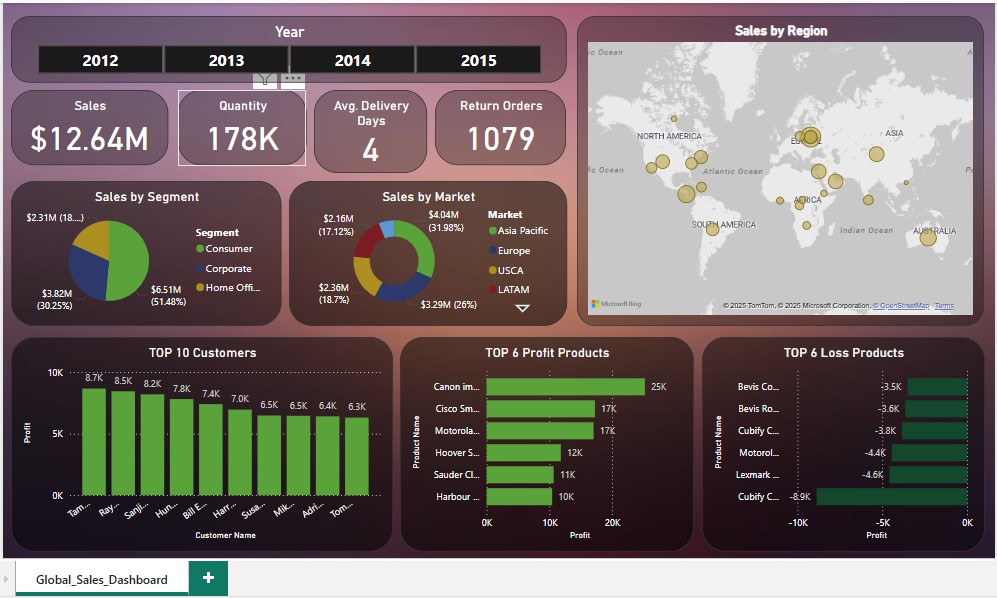

Layout of this report page (visuals, bound fields, positions):
{"tool":"powerbi","page":{"name":"P","canvas":[1280,720],"ordinal":0},"visuals":[{"type":"card","title":"Sales","fields":{"Values":["Sum(Orders.Sales)"]},"box":[9.9,112.7,202.8,97.2],"z":0},{"type":"card","title":"Quantity","fields":{"Values":["Sum(Orders.Quantity)"]},"box":[225.4,112.7,166.2,97.2],"z":1000},{"type":"card","title":"Avg. Delivery Days","fields":{"Values":["Sum(Orders.Delivery Days)"]},"box":[401.4,112.7,146.5,107],"z":2000},{"type":"slicer","title":"Year","fields":{"Values":["Orders.Year"]},"box":[9.9,16.9,716.9,85.9],"z":3000},{"type":"card","title":"Return Orders","fields":{"Values":["Min(Returns.Return Orders)"]},"box":[557.7,112.7,169,97.2],"z":4000},{"type":"map","fields":{"Category":["Orders.Region"],"Size":["Sum(Orders.Sales)"]},"box":[740.8,16.9,525.4,400],"z":5000},{"type":"barChart","title":"TOP 6 Profit  Products","fields":{"Category":["Orders.Product Name"],"Y":["Sum(Orders.Profit)"]},"box":[512.7,431,378.9,277.5],"z":6000},{"type":"barChart","title":"TOP 6 Loss  Products","fields":{"Category":["Orders.Product Name"],"Y":["Sum(Orders.Profit)"]},"box":[901.4,431,364.8,277.5],"z":7000},{"type":"pieChart","fields":{"Category":["Orders.Segment"],"Y":["Sum(Orders.Sales)"]},"box":[9.9,229.6,349.3,187.3],"z":8000},{"type":"donutChart","fields":{"Y":["Sum(Orders.Sales)"],"Category":["Orders.Market"]},"box":[368.5,229.6,358.6,187.1],"z":9000},{"type":"columnChart","title":"TOP 10 Customers","fields":{"Y":["Sum(Orders.Profit)"],"Category":["Orders.Customer Name"]},"box":[9.9,431,493,277.5],"z":10000}]}

Visuals, with their boxes in screenshot pixels (x1, y1, x2, y2):
"Sales" card: box=[0, 79, 162, 157]
"Quantity" card: box=[172, 79, 304, 157]
"Avg. Delivery Days" card: box=[312, 79, 429, 165]
"Year" slicer: box=[0, 3, 571, 71]
"Return Orders" card: box=[436, 79, 571, 157]
map - Orders.Region x Sum(Orders.Sales): box=[582, 3, 996, 322]
"TOP 6 Profit  Products" barChart: box=[401, 333, 702, 554]
"TOP 6 Loss  Products" barChart: box=[710, 333, 996, 554]
pieChart - Orders.Segment x Sum(Orders.Sales): box=[0, 172, 278, 322]
donutChart - Sum(Orders.Sales) x Orders.Market: box=[286, 172, 571, 321]
"TOP 10 Customers" columnChart: box=[0, 333, 393, 554]
